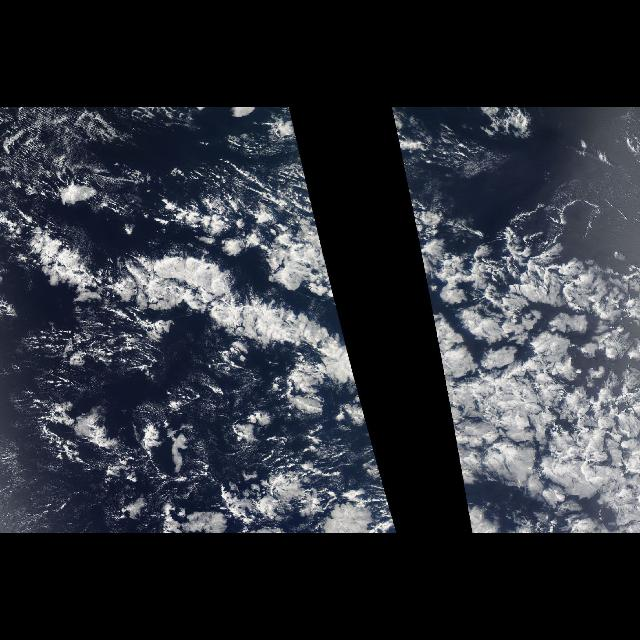Fish: (0, 194, 378, 492)
Flower: (407, 182, 639, 516), (29, 227, 318, 371), (322, 243, 391, 504)
Gravel: (11, 385, 302, 503)
Sugar: (9, 110, 200, 218)
